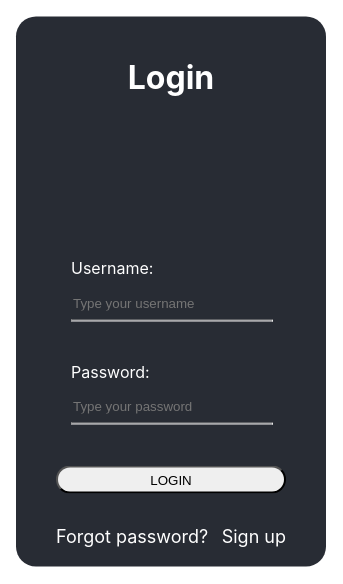
Test: UserLoginForm component › shows error if password is empty
Type "testuser" into the field labelled "Username:" at (162, 303), box [71,294,252,311]
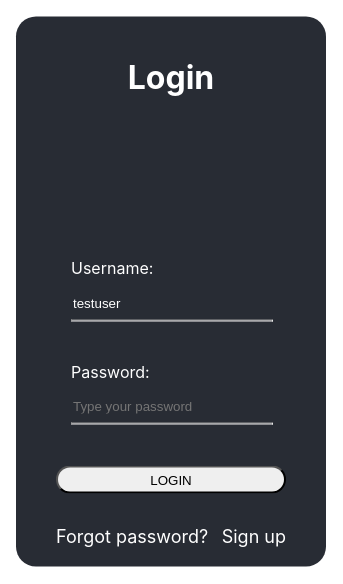
Click the button "LOGIN" at (171, 479), box [56,465,286,494]
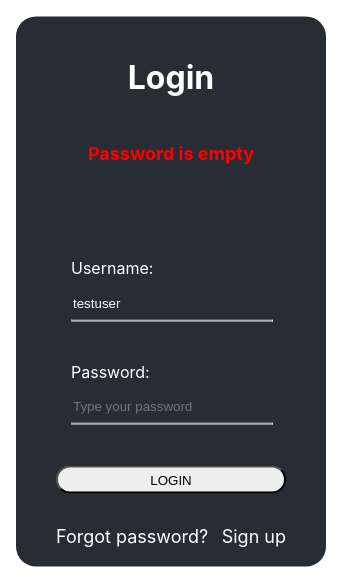
expect the text "Password is empty" is shown: met, box [88,142,254,163]
